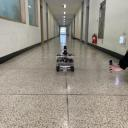cart: (56, 54, 75, 72)
